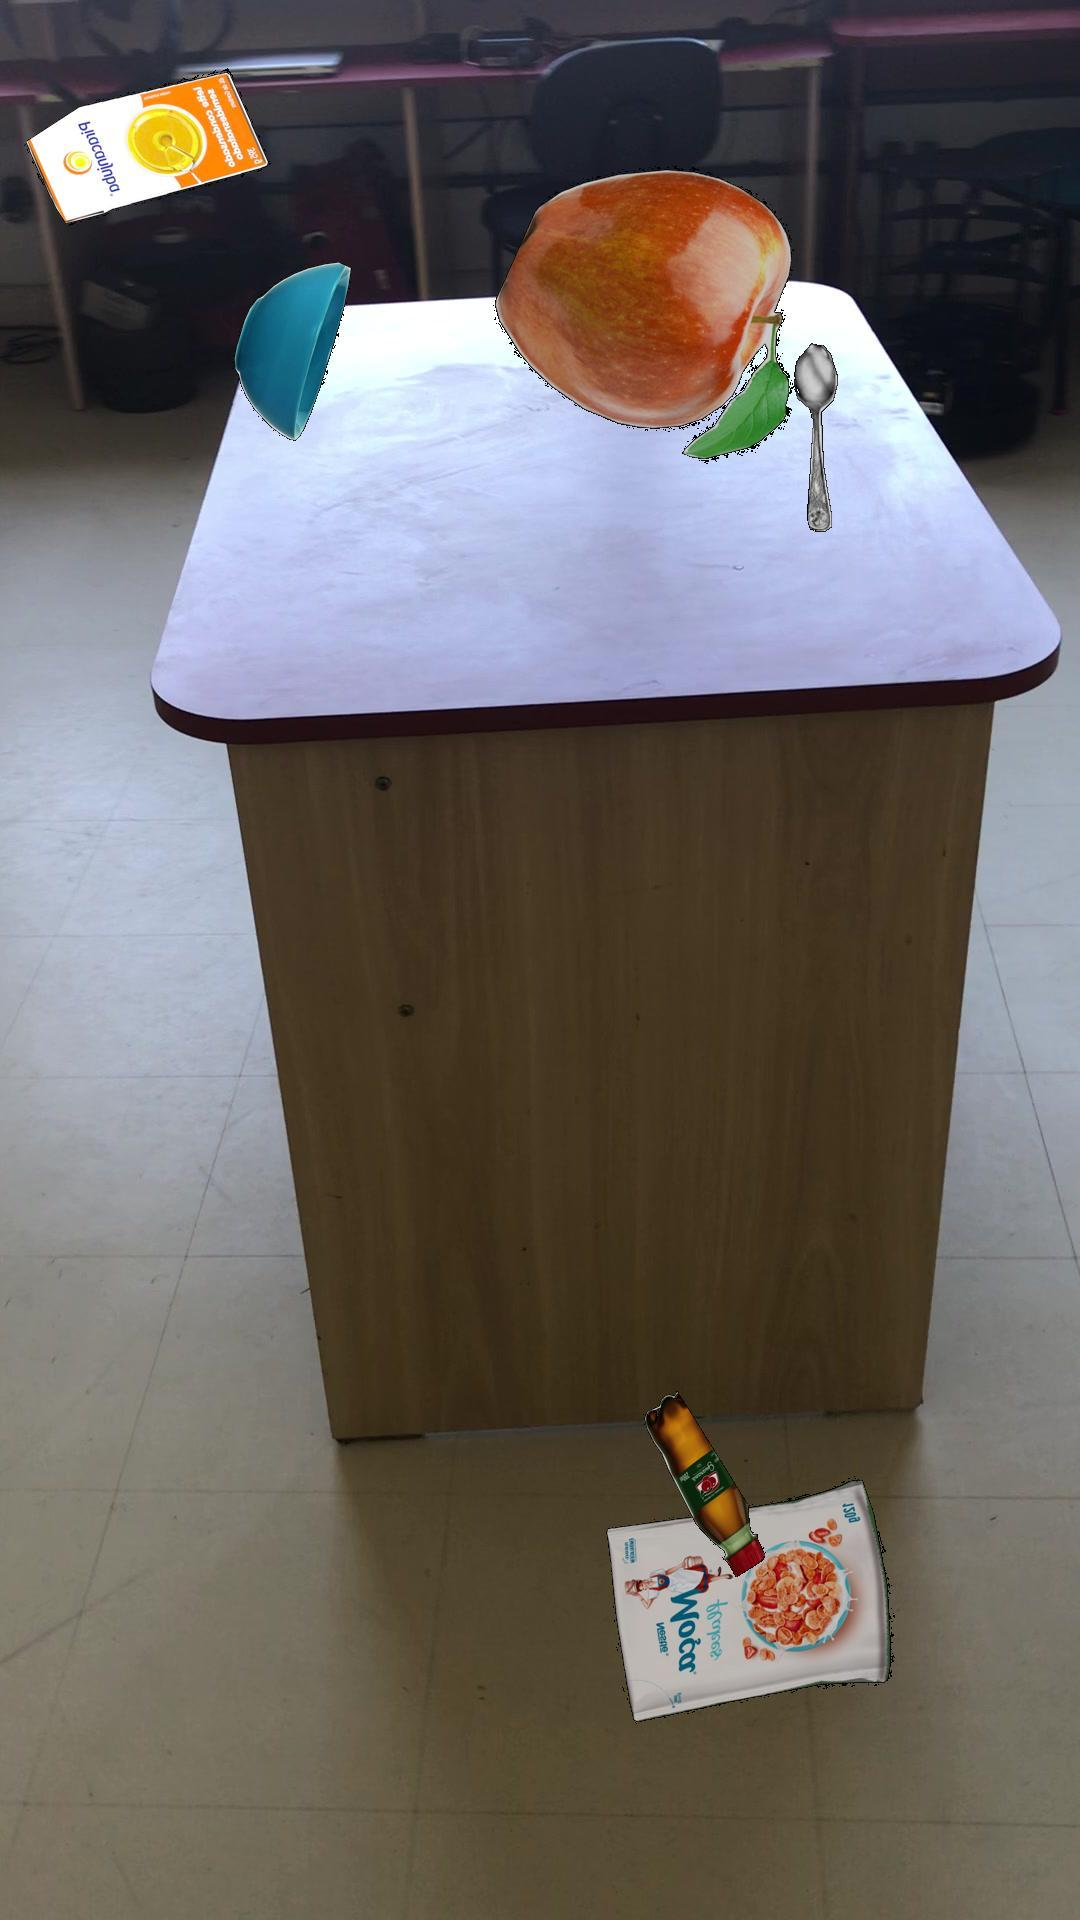apple: (493, 165, 793, 459)
bowl: (232, 261, 351, 439)
corn flakes: (604, 1477, 893, 1721)
guarana: (642, 1390, 762, 1576)
spoon: (793, 342, 836, 530)
